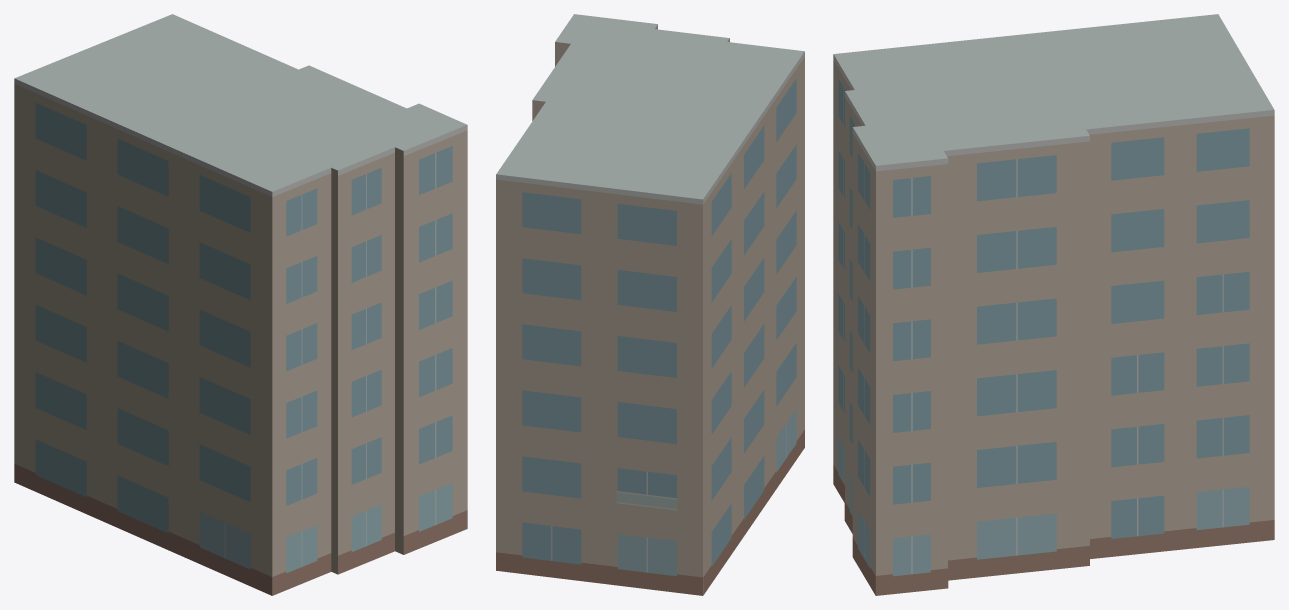
Rendered from survey-upis-32654760.glb.
The picture shows the model from 3 angles, left to right: view 1: azimuth 30°, elevation 25°; view 2: azimuth 150°, elevation 25°; view 3: azimuth 270°, elevation 25°; orthographic projection. The views are drawn at different scales.
Visible parts, largest first — view 1: survey-upis-32654760.tmp; view 2: survey-upis-32654760.tmp; view 3: survey-upis-32654760.tmp.
Part boxes in pixels (<box>): survey-upis-32654760.tmp: <box>14,14,467,595</box>; survey-upis-32654760.tmp: <box>496,14,804,595</box>; survey-upis-32654760.tmp: <box>833,14,1274,595</box>.
Size of the model in its own units: 14.02 by 18.5 by 17.21.
